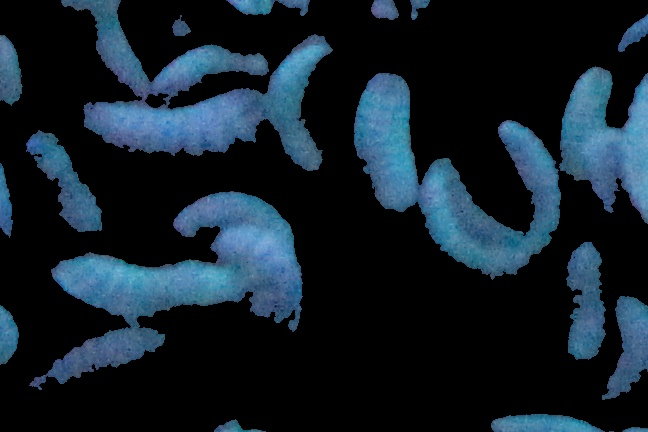larvae: (82, 90, 267, 165), (422, 156, 532, 282), (51, 254, 241, 316), (211, 226, 303, 341), (494, 119, 559, 266), (15, 333, 183, 389), (23, 129, 105, 241), (356, 71, 418, 214), (271, 35, 333, 172), (558, 66, 618, 189), (152, 44, 270, 97), (173, 190, 300, 236), (563, 236, 605, 368), (607, 291, 648, 400), (588, 126, 625, 211)
